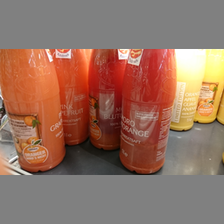juice: (1, 49, 67, 173), (118, 51, 178, 174), (47, 50, 90, 147), (87, 49, 121, 152)
